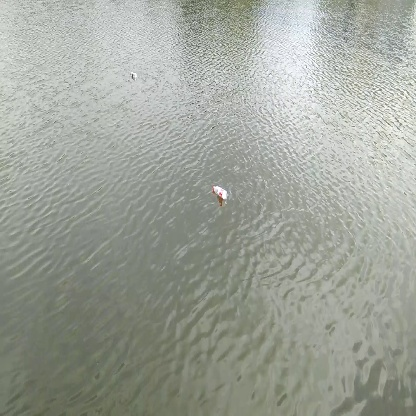bottle: (210, 183, 231, 202)
